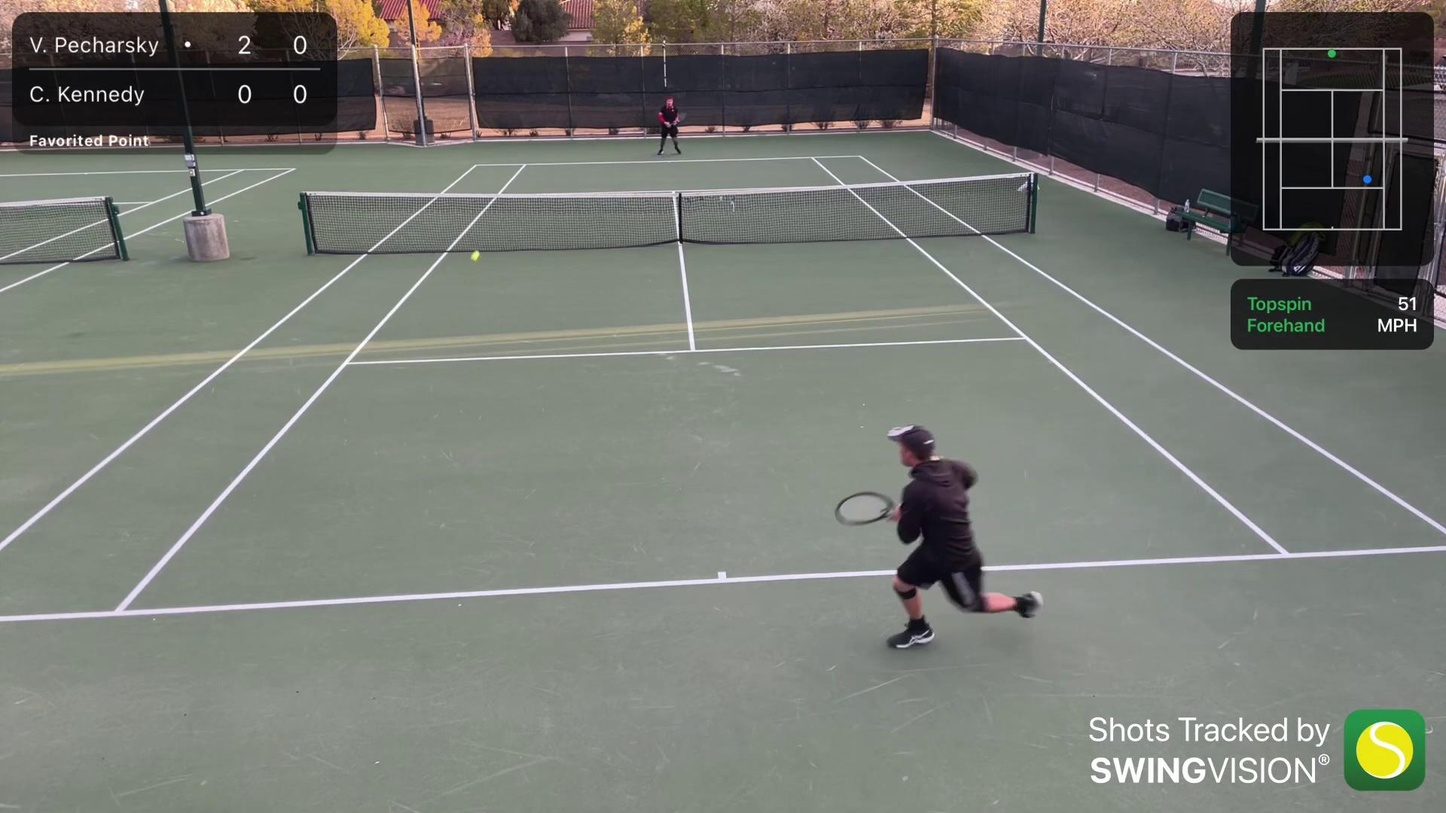ball: (469, 249, 481, 262)
